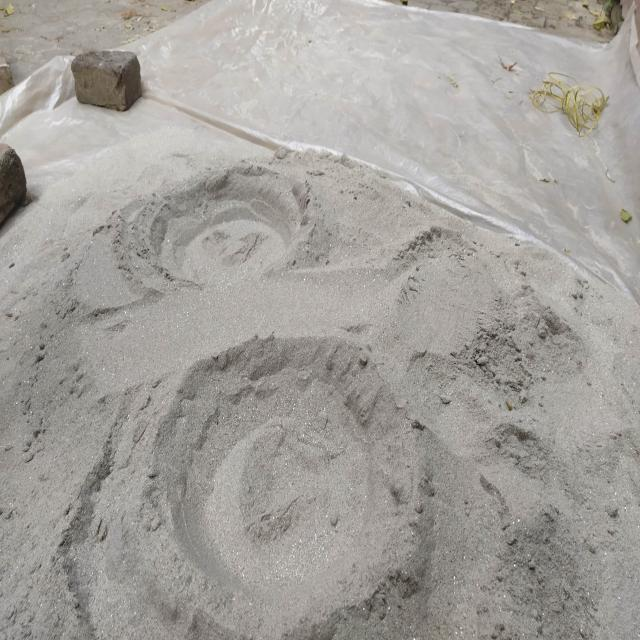C20: (170, 345, 414, 608), (152, 168, 304, 285)
